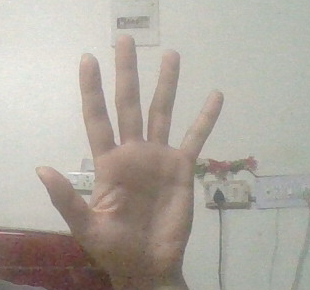move: (40, 30, 234, 289)
